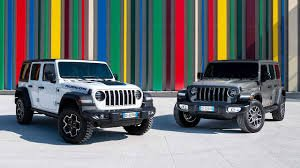mobil: (15, 58, 156, 142), (173, 59, 289, 136)
